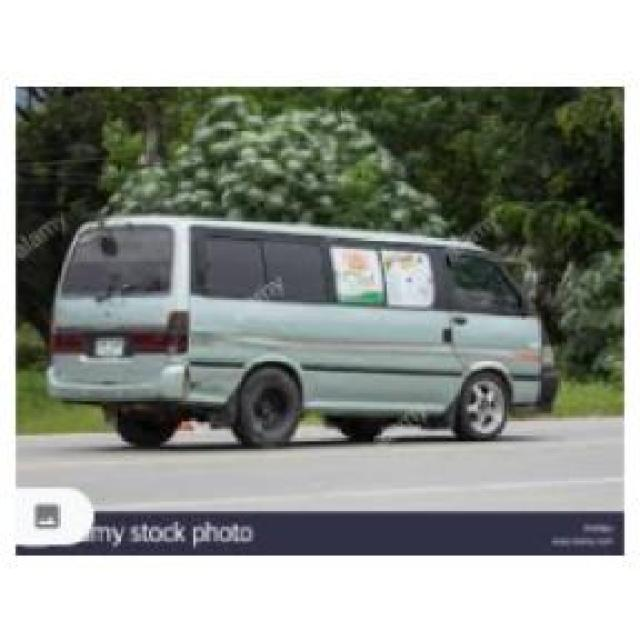Van: (38, 211, 560, 448)
